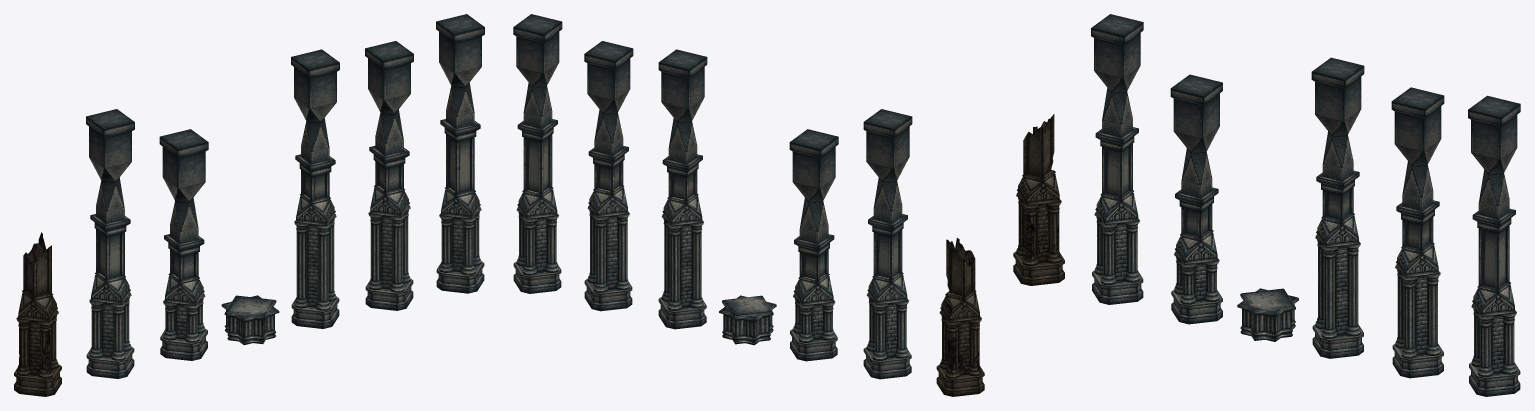
The model's file is EnvMdrMD_Daiseidou_B_Pillar_C_1100H_B.FBX.
3 renders of one model, left to right at view 1: azimuth 30°, elevation 25°; view 2: azimuth 150°, elevation 25°; view 3: azimuth 330°, elevation 25°, orthographic. The views are drawn at different scales.
Parts seen in each view (by area): view 1: EnvMdrMD_Daiseidou_B_Pillar_C_1350H_B, EnvMdrMD_Daiseidou_B_Pillar_C_1350H, EnvMdrMD_Daiseidou_B_Pillar_C_1300H_B, EnvMdrMD_Daiseidou_B_Pillar_C_1300H, EnvMdrMD_Daiseidou_B_Pillar_C_1100H_B, EnvMdrMD_Daiseidou_B_Pillar_C_Debris_A, EnvMdrMD_Daiseidou_B_Pillar_C_Top; view 2: EnvMdrMD_Daiseidou_B_Pillar_C_1350H_B, EnvMdrMD_Daiseidou_B_Pillar_C_1350H, EnvMdrMD_Daiseidou_B_Pillar_C_1300H_B, EnvMdrMD_Daiseidou_B_Pillar_C_1300H, EnvMdrMD_Daiseidou_B_Pillar_C_1100H_B, EnvMdrMD_Daiseidou_B_Pillar_C_Debris_A, EnvMdrMD_Daiseidou_B_Pillar_C_Top; view 3: EnvMdrMD_Daiseidou_B_Pillar_C_1350H_B, EnvMdrMD_Daiseidou_B_Pillar_C_1350H, EnvMdrMD_Daiseidou_B_Pillar_C_1300H_B, EnvMdrMD_Daiseidou_B_Pillar_C_1300H, EnvMdrMD_Daiseidou_B_Pillar_C_1100H_B, EnvMdrMD_Daiseidou_B_Pillar_C_Debris_A, EnvMdrMD_Daiseidou_B_Pillar_C_Top.
Part boxes in pixels (x1=…): EnvMdrMD_Daiseidou_B_Pillar_C_1350H_B: x1=291, y1=49, x2=339, y2=328; EnvMdrMD_Daiseidou_B_Pillar_C_1350H: x1=436, y1=14, x2=484, y2=293; EnvMdrMD_Daiseidou_B_Pillar_C_1300H_B: x1=365, y1=41, x2=413, y2=310; EnvMdrMD_Daiseidou_B_Pillar_C_1300H: x1=86, y1=109, x2=134, y2=378; EnvMdrMD_Daiseidou_B_Pillar_C_1100H_B: x1=159, y1=129, x2=208, y2=360; EnvMdrMD_Daiseidou_B_Pillar_C_Debris_A: x1=14, y1=232, x2=61, y2=396; EnvMdrMD_Daiseidou_B_Pillar_C_Top: x1=221, y1=295, x2=279, y2=344; EnvMdrMD_Daiseidou_B_Pillar_C_1350H_B: x1=658, y1=49, x2=707, y2=329; EnvMdrMD_Daiseidou_B_Pillar_C_1350H: x1=513, y1=14, x2=562, y2=293; EnvMdrMD_Daiseidou_B_Pillar_C_1300H_B: x1=584, y1=41, x2=633, y2=311; EnvMdrMD_Daiseidou_B_Pillar_C_1300H: x1=863, y1=109, x2=912, y2=379; EnvMdrMD_Daiseidou_B_Pillar_C_1100H_B: x1=789, y1=129, x2=838, y2=361; EnvMdrMD_Daiseidou_B_Pillar_C_Debris_A: x1=936, y1=238, x2=984, y2=396; EnvMdrMD_Daiseidou_B_Pillar_C_Top: x1=719, y1=295, x2=776, y2=345; EnvMdrMD_Daiseidou_B_Pillar_C_1350H_B: x1=1311, y1=57, x2=1364, y2=358; EnvMdrMD_Daiseidou_B_Pillar_C_1350H: x1=1468, y1=95, x2=1520, y2=396; EnvMdrMD_Daiseidou_B_Pillar_C_1300H_B: x1=1391, y1=87, x2=1444, y2=378; EnvMdrMD_Daiseidou_B_Pillar_C_1300H: x1=1091, y1=14, x2=1143, y2=304; EnvMdrMD_Daiseidou_B_Pillar_C_1100H_B: x1=1170, y1=74, x2=1222, y2=324; EnvMdrMD_Daiseidou_B_Pillar_C_Debris_A: x1=1013, y1=114, x2=1064, y2=285; EnvMdrMD_Daiseidou_B_Pillar_C_Top: x1=1237, y1=288, x2=1298, y2=341.
Size of the model in its own units: 2552 by 1360 by 283.
